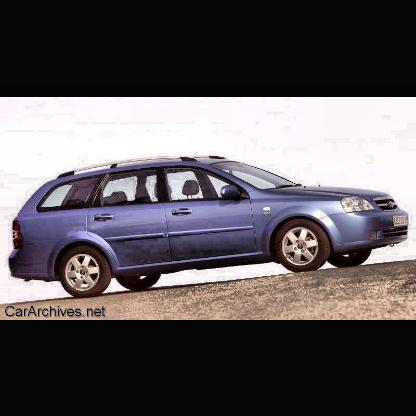Daewoo Nubira Wagon 2002: (8, 154, 410, 298)
